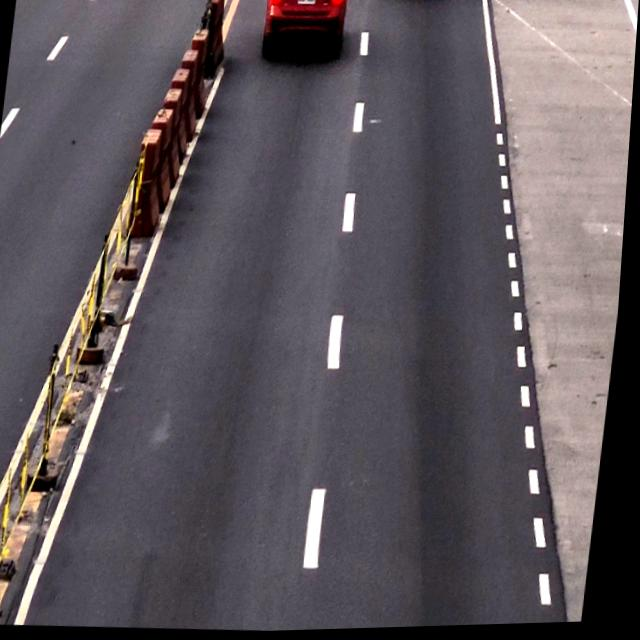Car: (259, 0, 348, 72)
